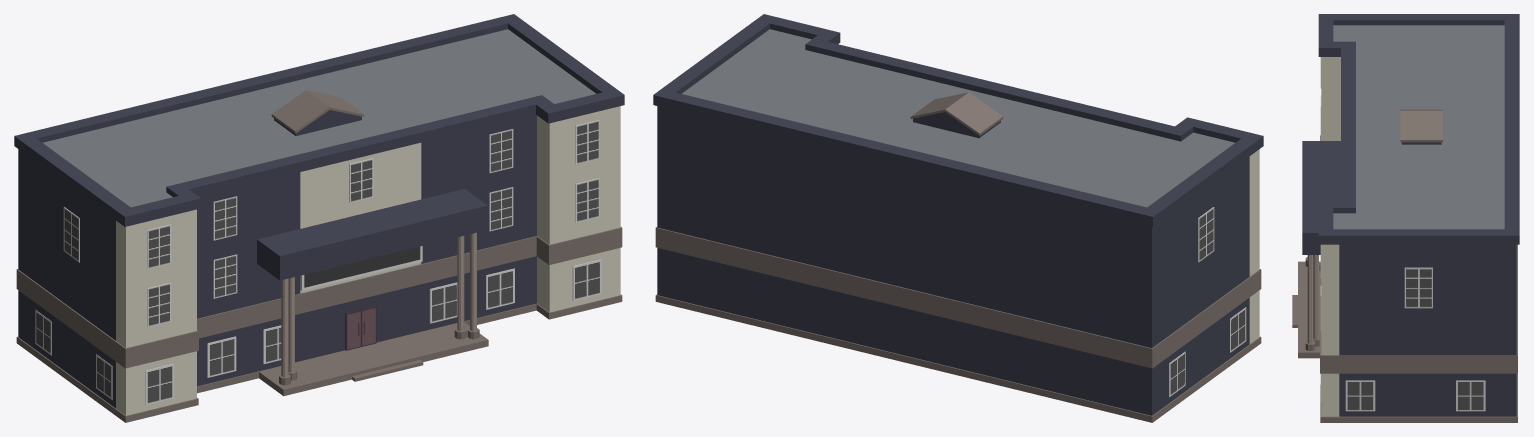
Rendered from governorship01_color03.fbx.
3 renders of one model, left to right at view 1: azimuth 30°, elevation 25°; view 2: azimuth 150°, elevation 25°; view 3: azimuth 270°, elevation 25°, orthographic. The views are drawn at different scales.
Parts seen in each view (by area): view 1: governorship01_color03; view 2: governorship01_color03; view 3: governorship01_color03.
Part boxes in pixels (<box>): governorship01_color03: <box>14,14,624,422</box>; governorship01_color03: <box>653,14,1263,422</box>; governorship01_color03: <box>1292,14,1519,422</box>.
Bounding box in the file's own units: 3032 × 1291 × 1313.
